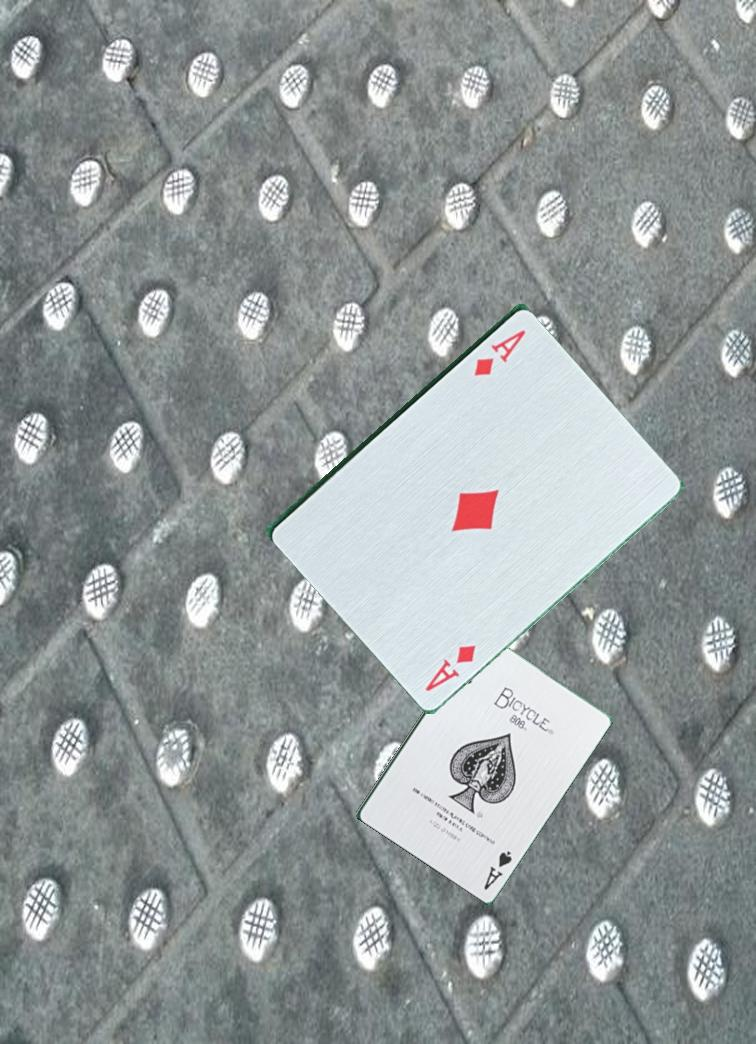ad: (457, 323, 535, 381), (421, 641, 479, 696)
as: (480, 846, 515, 892)
